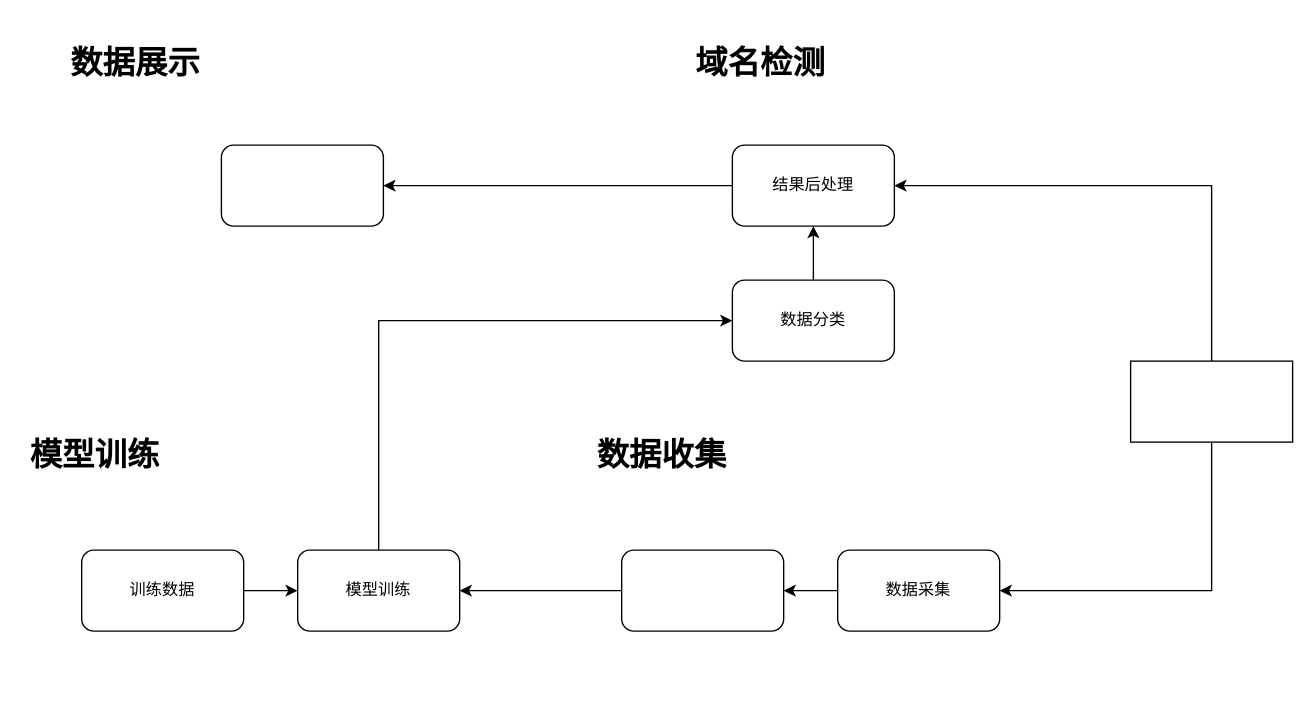
This 1316x707 diagram has some shape labels left out. Each missing label, with the centre of its shape:
"DNS日志采集器" belongs at [1211,401].
"控制台展示" belongs at [301,185].
"数据预处理" belongs at [702,590].
